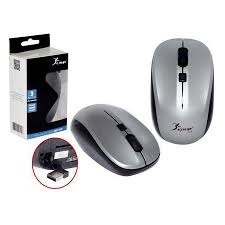mouse: (147, 37, 219, 146), (72, 101, 167, 182)
